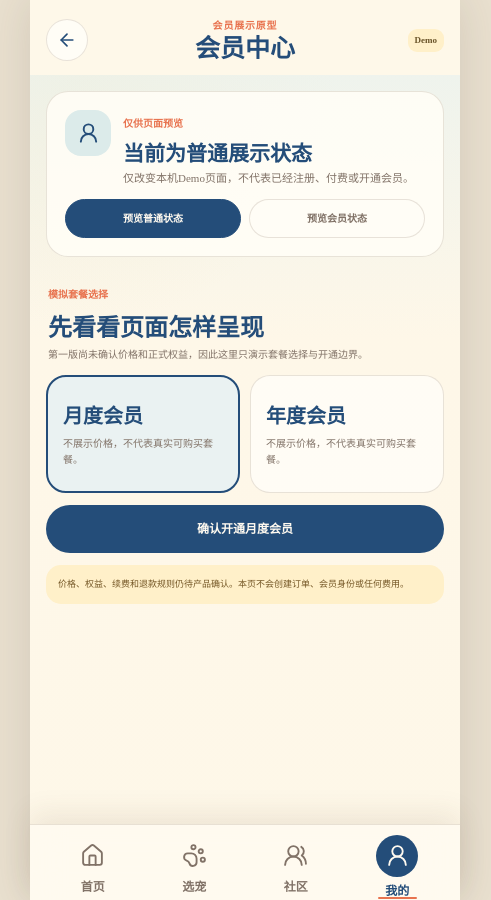
Scenario: T39会员中心和我的原型 › 会员展示状态只在本机切换，并明确不是实际开通
Expected: the heading "当前为普通展示状态" is shown, [123,142,312,166]
What coordinates should you click on to do the following:
click the button "预览会员状态"
I would click on:
 (337, 219)
Its box is [249,199,425,238].
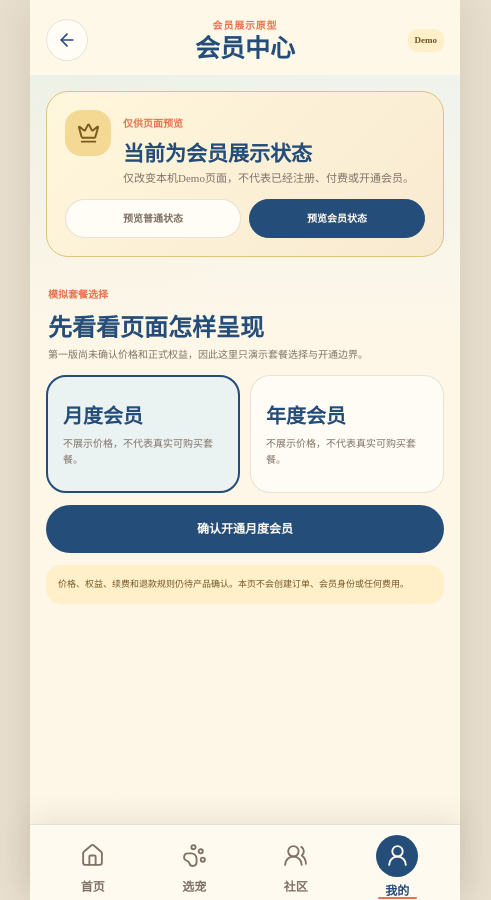
Expected: the text "仅改变本机Demo页面，不代表已经注册、付费或开通会员。" is shown, [123,170,425,187]
Expected: the heading "当前为会员展示状态" is shown, [123,142,312,166]
